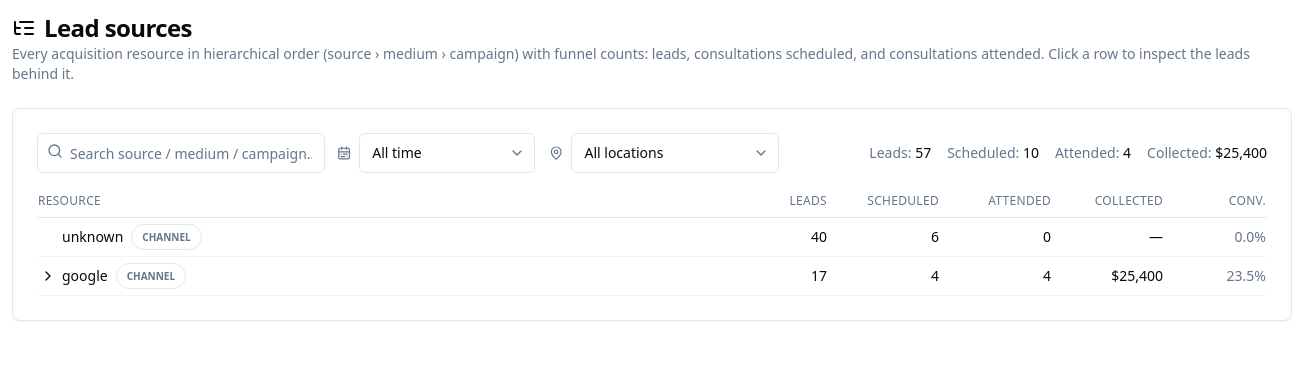
Test: LeadSourcesPage › renders the source tree with funnel counts
Expected: the button "google" is shown, [62,266,108,286]
Expected: the button "unknown" is shown, [62,227,123,247]
What coordinates should you click on to do the following:
click the button named "Expand google"
I would click on:
 (48, 276)
Its box is [38,266,58,286].
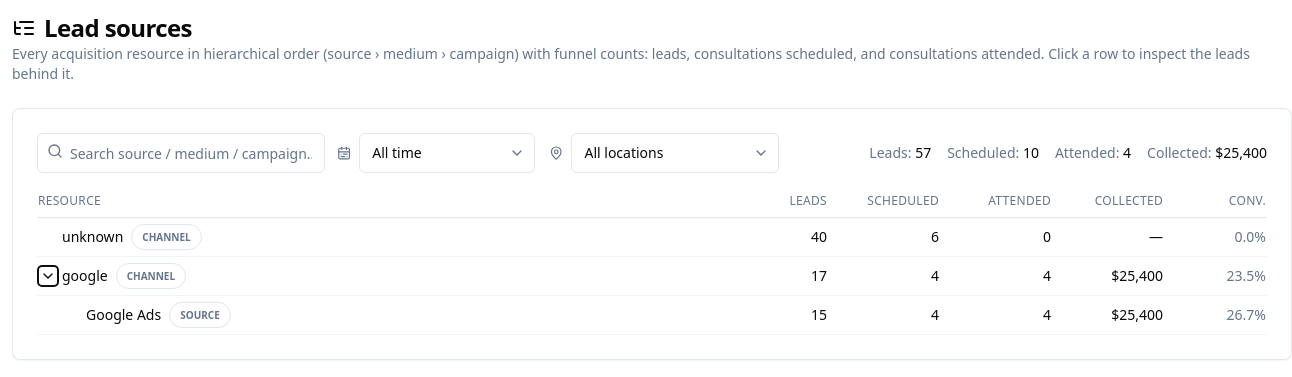
Expected: the button "Google Ads" is shown, [86,305,161,325]
